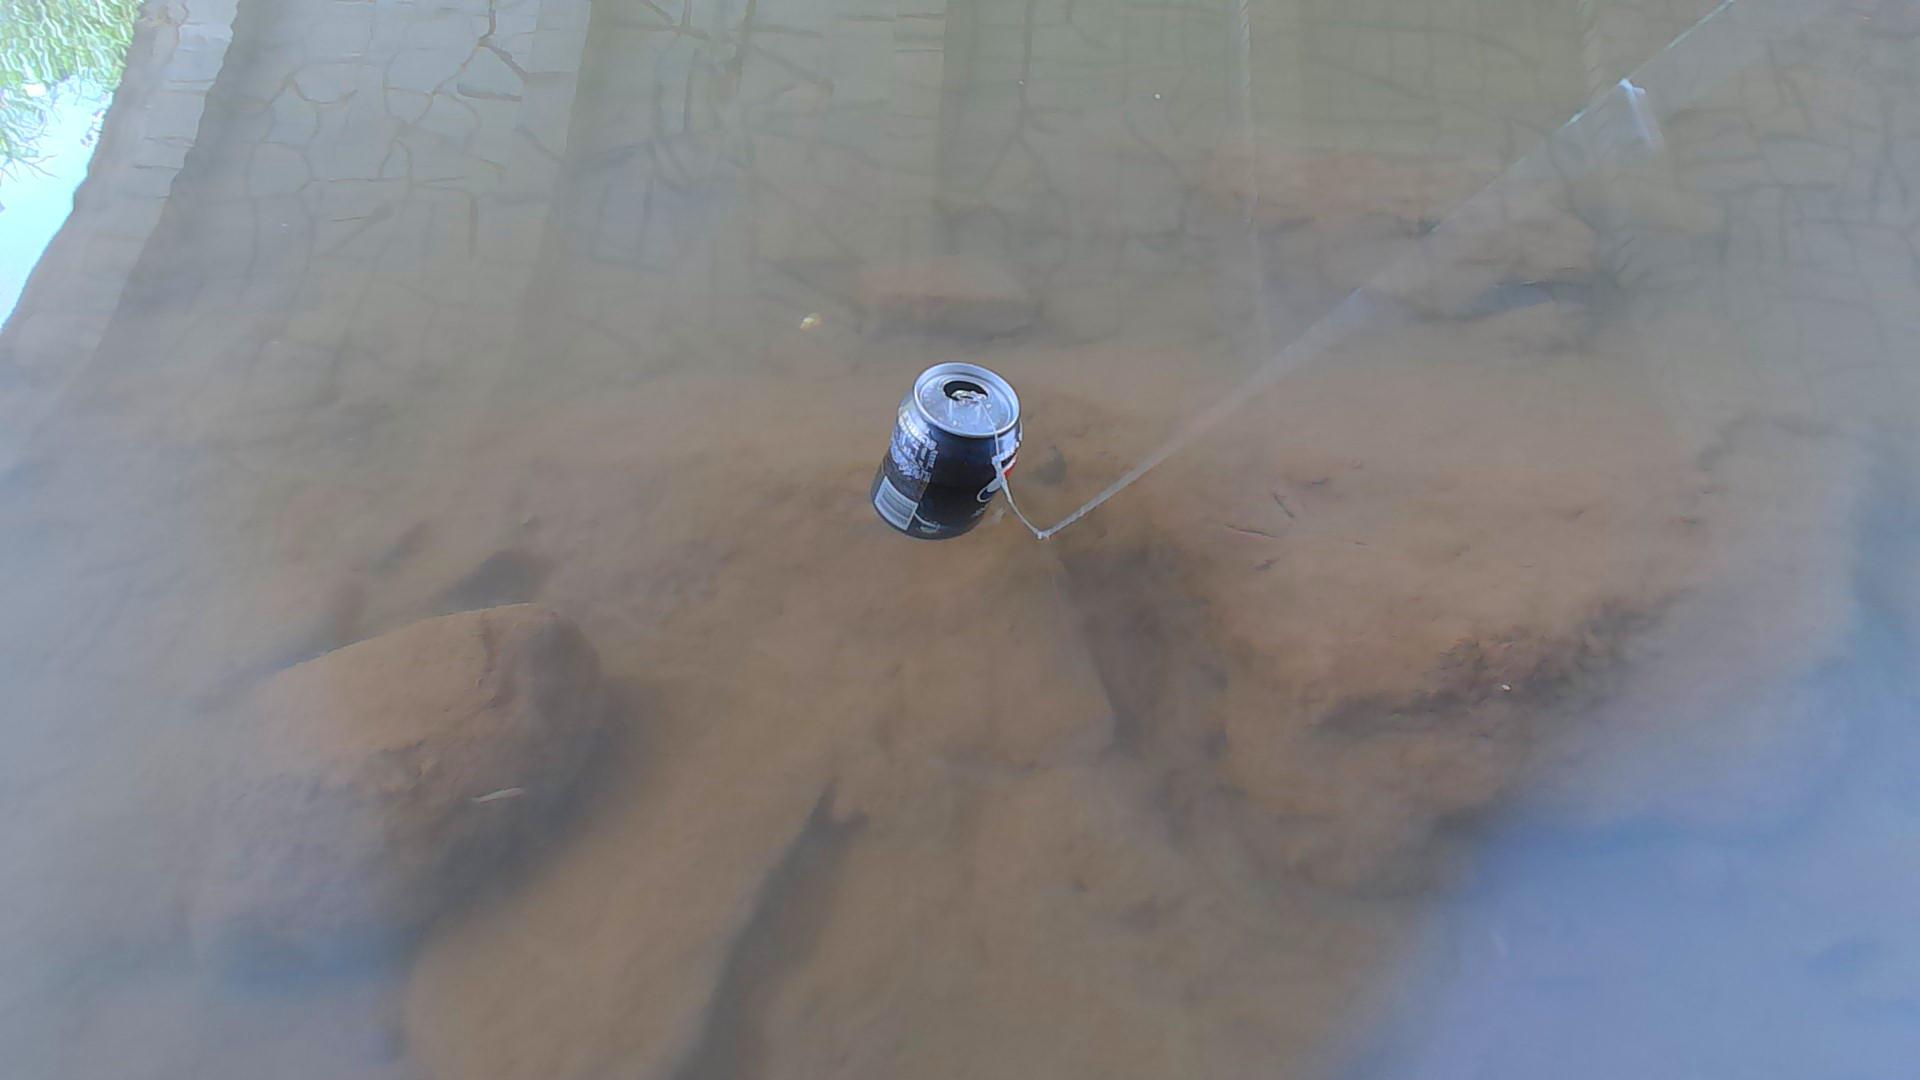Metal: (866, 357, 1025, 539)
